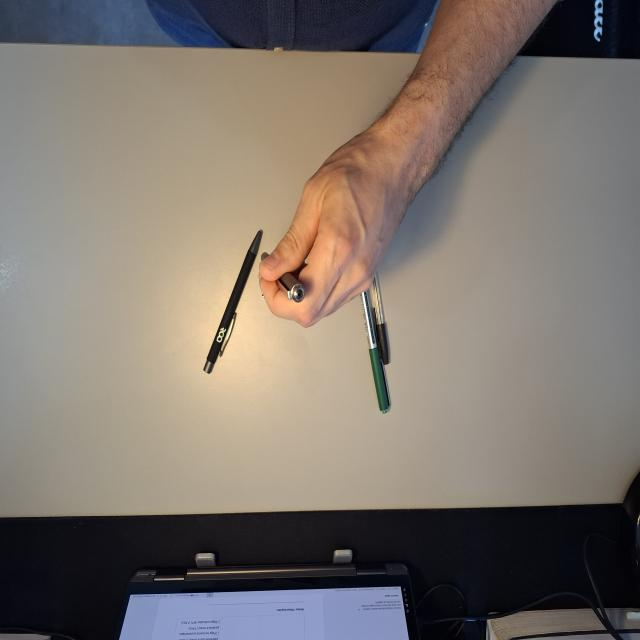glove_off: (256, 129, 416, 331)
